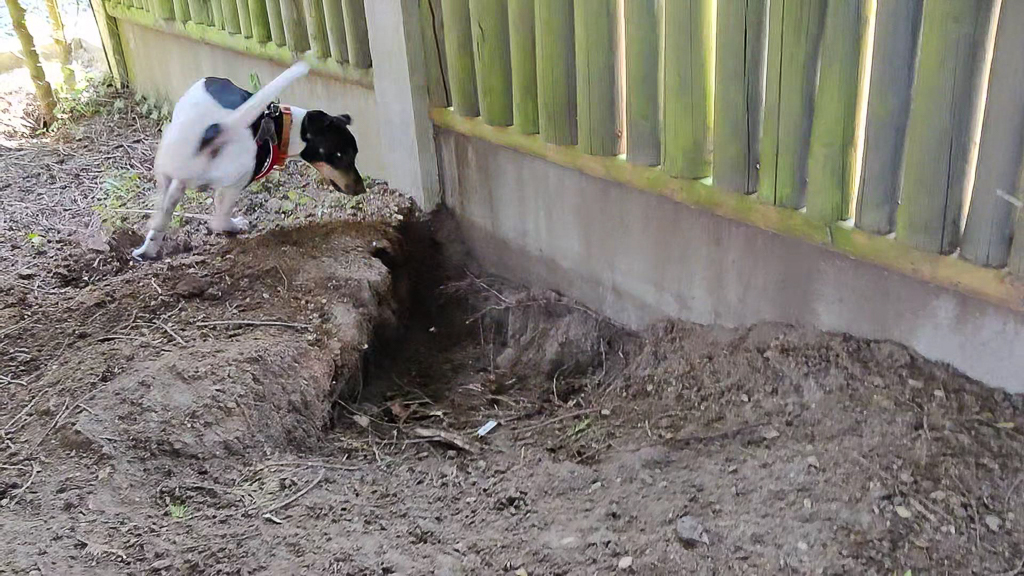Dog: (110, 53, 381, 276)
